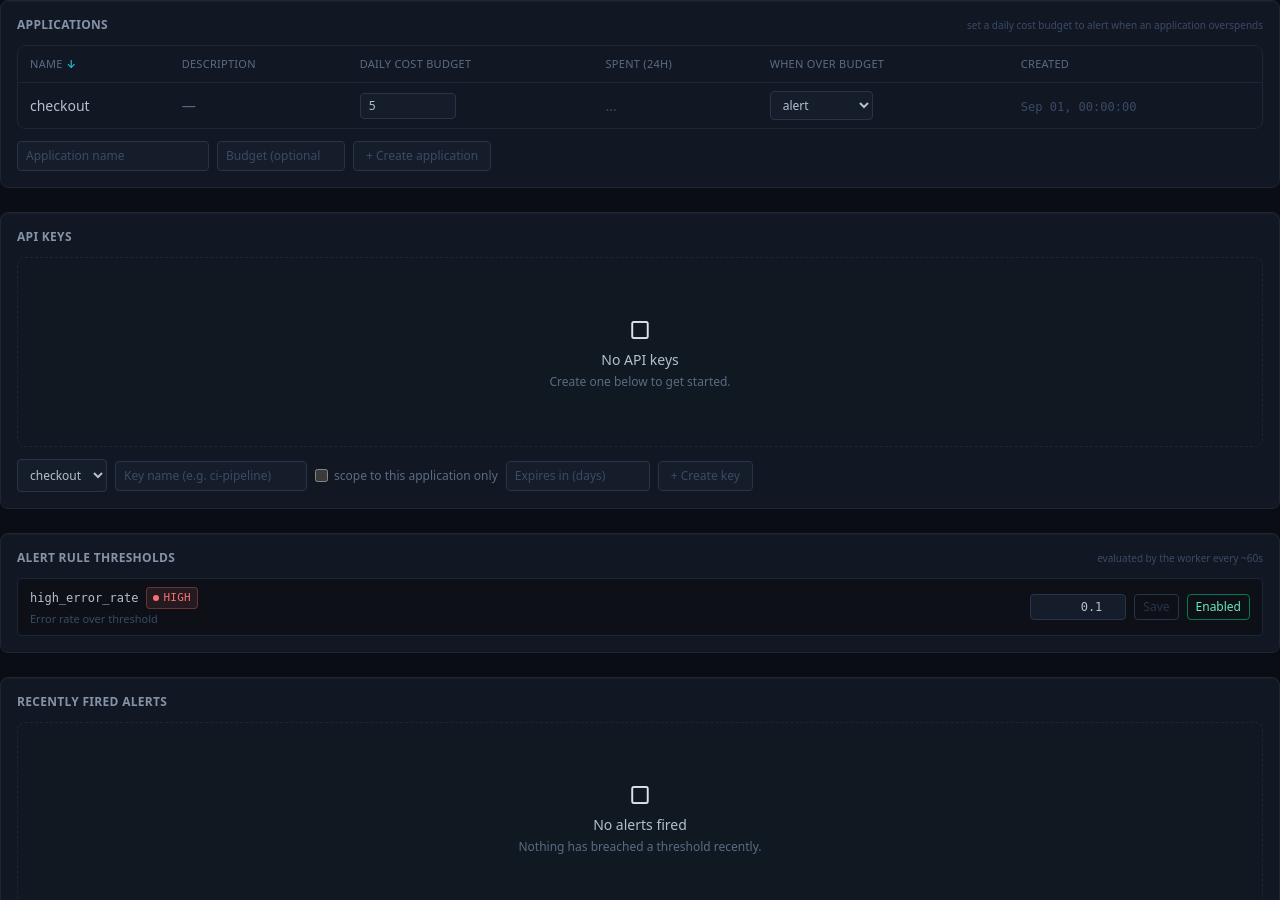
Test: Settings page › shows why a budget save failed instead of failing silently
This screenshot has width=1280, height=900.
Replace the text in the number field showing "5" in the row of "checkout" with "9" at x=408, y=106, box x1=360 y1=92 x2=456 y2=118
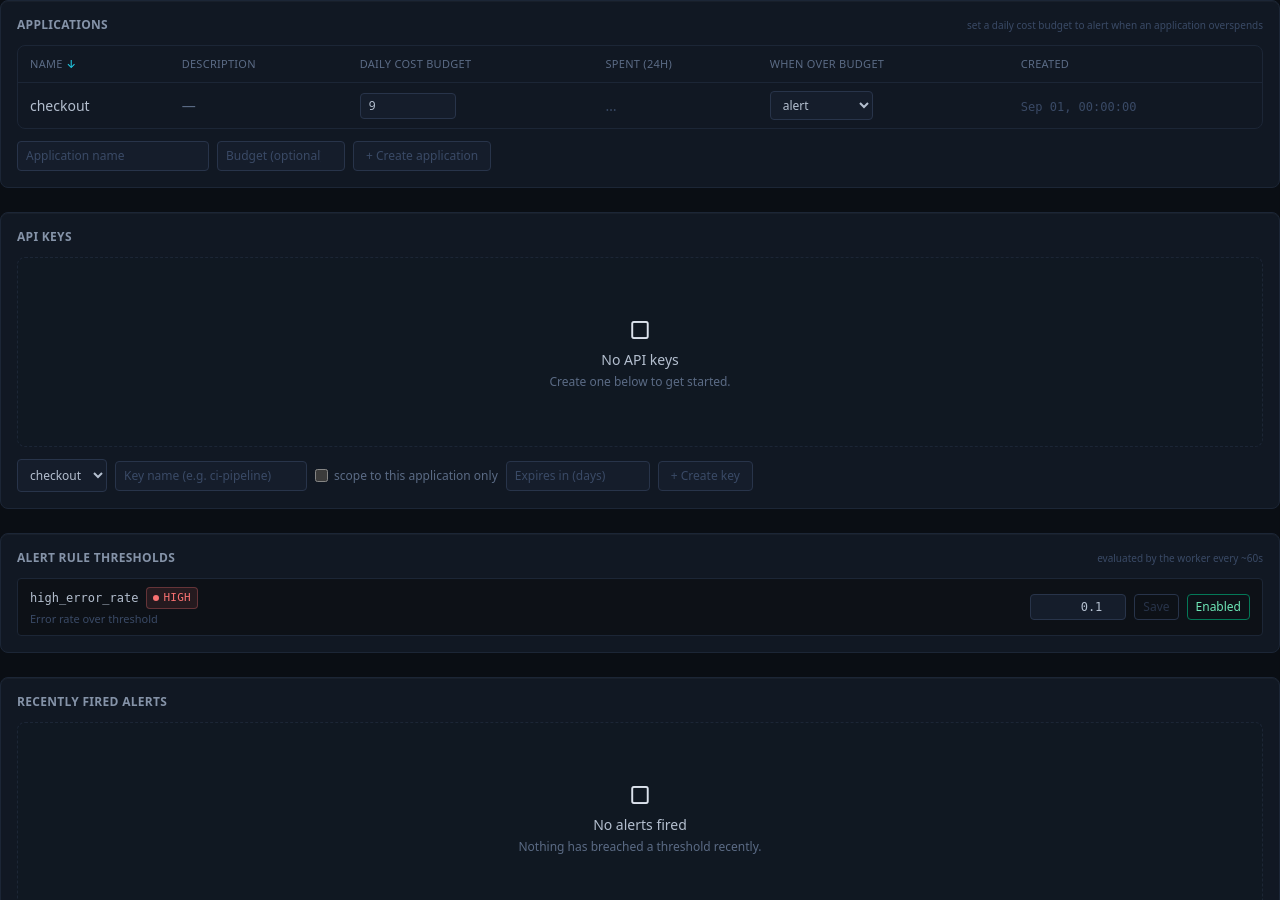
Leave the number field showing "5" in the row of "checkout", box x1=360 y1=92 x2=456 y2=118
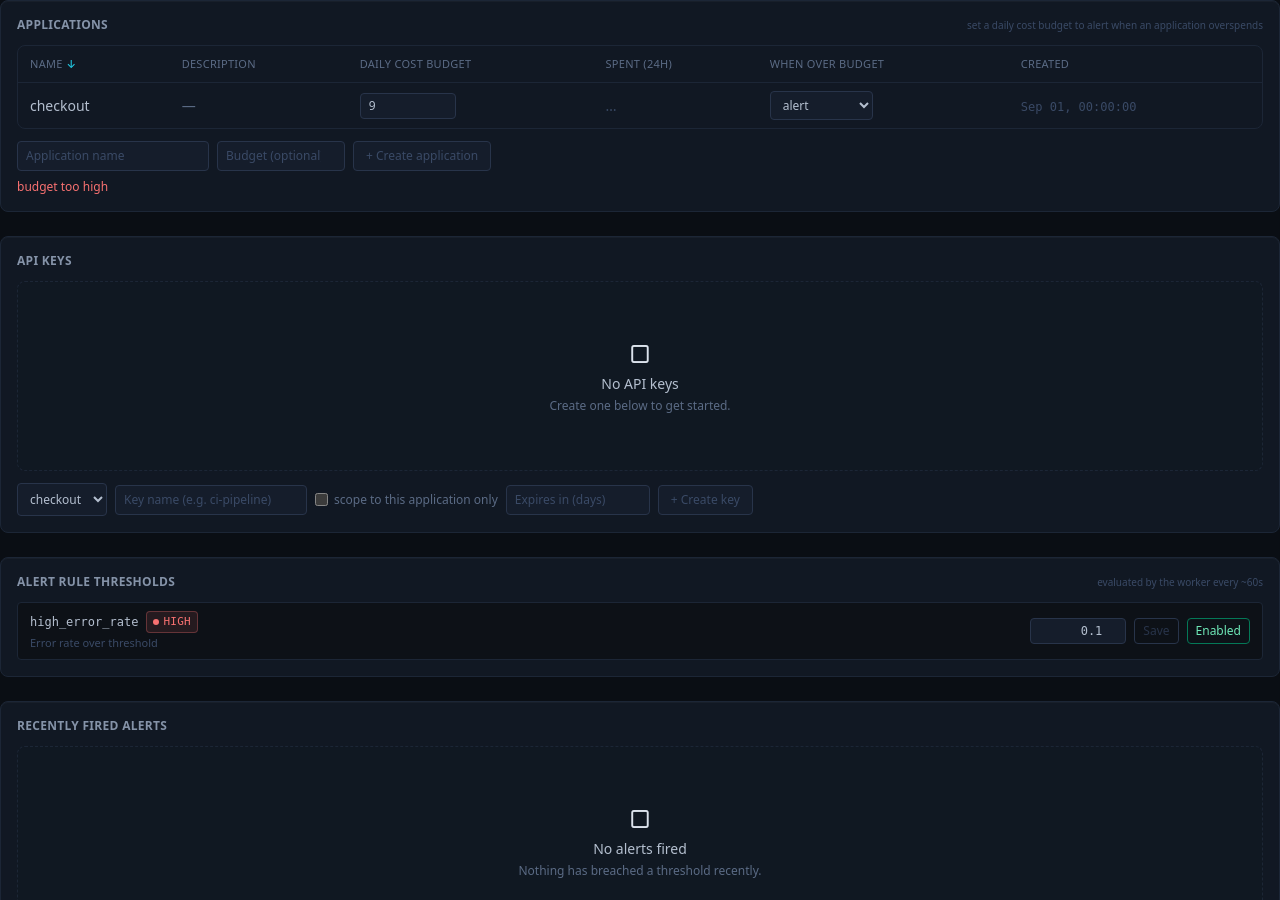
Check: the text "budget too high" is shown, box x1=17 y1=178 x2=108 y2=195
